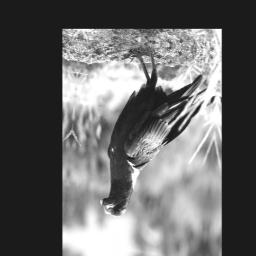Crow: (96, 36, 210, 235)
